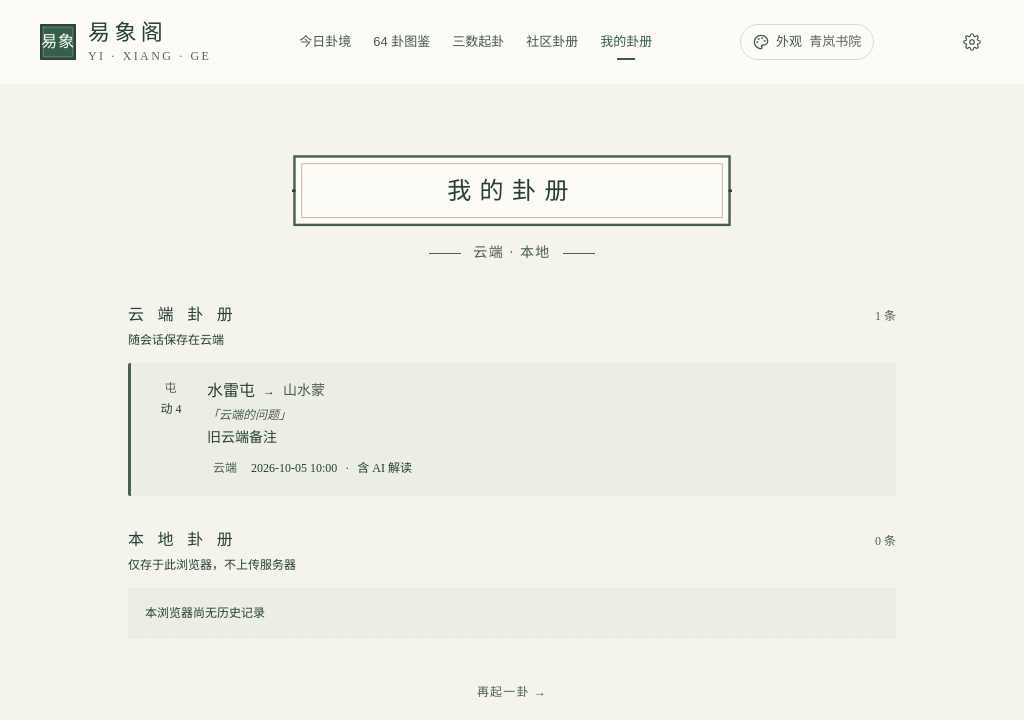
Test: Records page › displays the cached AI interpretation in the detail view
Click the button "水雷屯" at (231, 390), box x1=128 y1=362 x2=896 y2=496
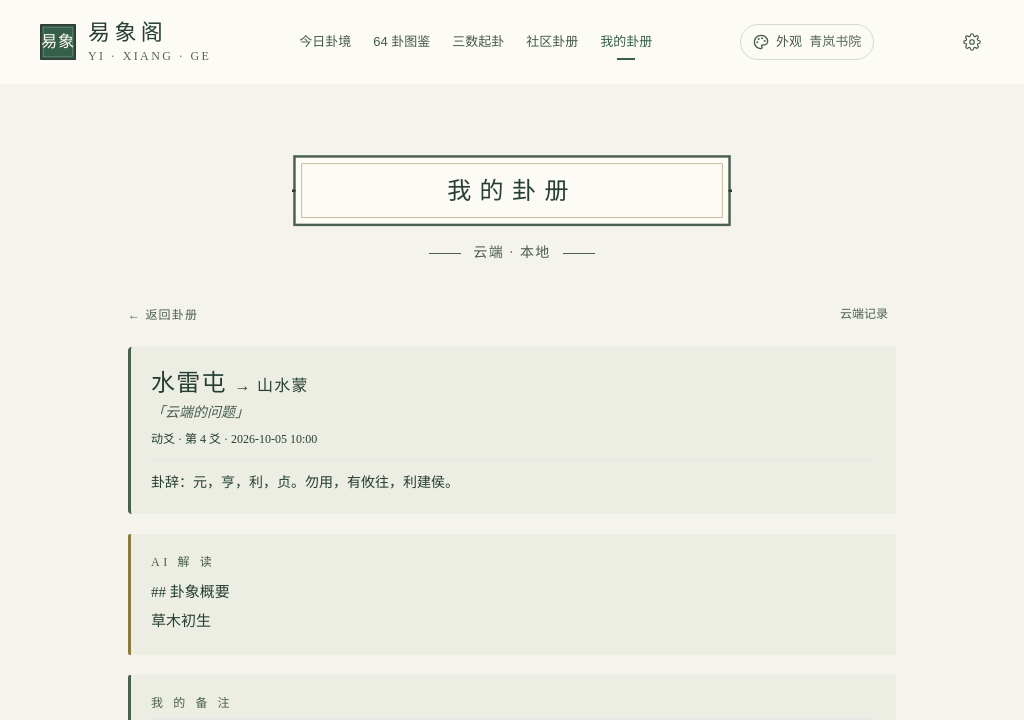
Result: the text "AI 解 读" is shown at x1=151 y1=555 x2=215 y2=569
Result: the text "## 卦象概要 草木初生" is shown at x1=151 y1=584 x2=230 y2=629
